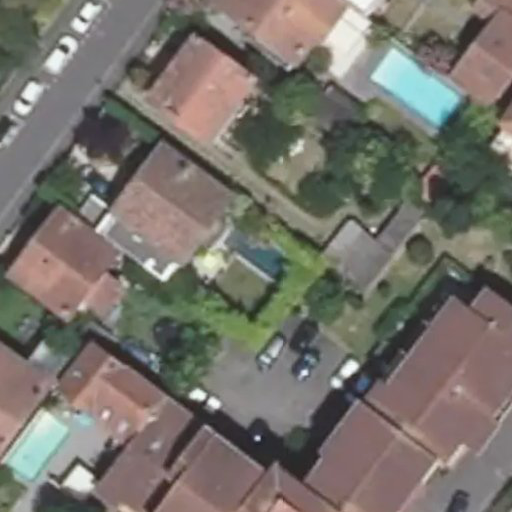pool: (217, 231, 294, 252)
